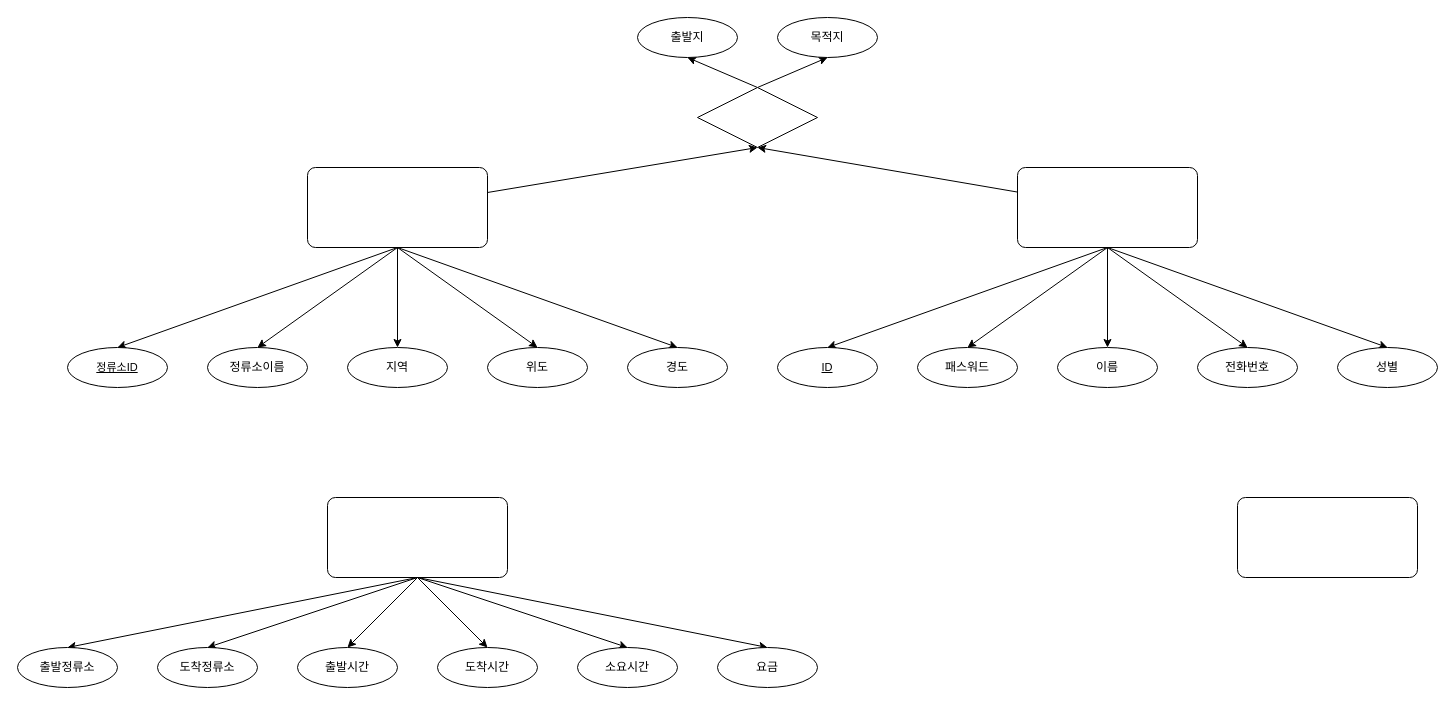
Some shapes in this 1455 by 705 pixel diagram are drawn without their labels. Each missing label, with the centre of its shape:
노선시간: pixel 417 537
운행정보: pixel 1327 537
정류소정보: pixel 397 207
즐겨찾기: pixel 757 117
회원정보: pixel 1107 207
